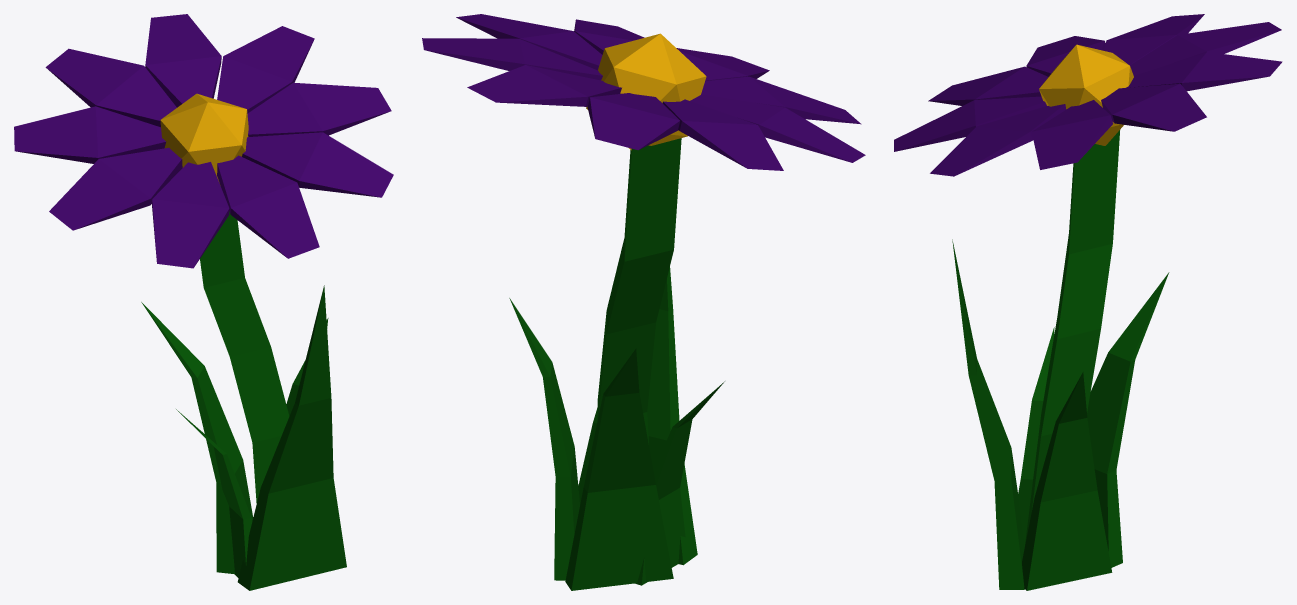
File: purpleFlower.glb
3 renders of one model, left to right at view 1: azimuth 30°, elevation 25°; view 2: azimuth 150°, elevation 25°; view 3: azimuth 270°, elevation 25°, orthographic. The views are drawn at different scales.
Parts seen in each view (by area): view 1: Cube.003; view 2: Cube.003; view 3: Cube.003.
Boxes of the visible parts, <box> form: Cube.003: <box>14,14,393,590</box>; Cube.003: <box>422,14,865,590</box>; Cube.003: <box>894,14,1282,590</box>.
Size of the model in its own units: 79.86 by 108 by 76.57.
